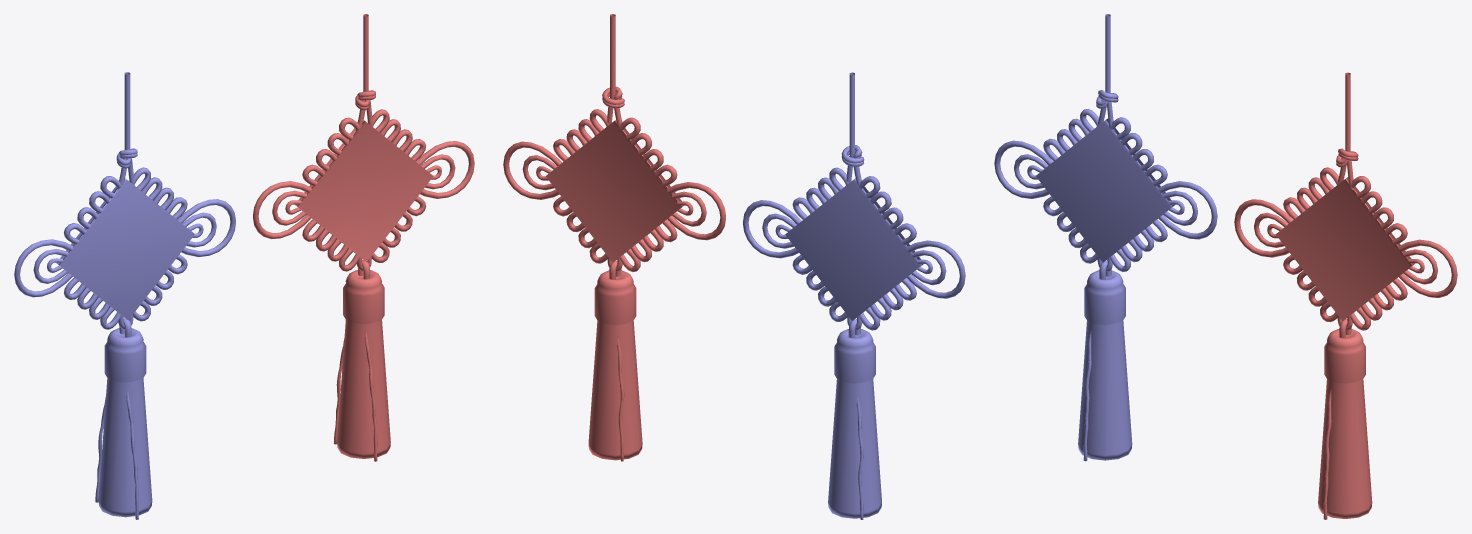
The model's file is Tassle_All_L3.fbx.
3 renders of one model, left to right at view 1: azimuth 30°, elevation 25°; view 2: azimuth 150°, elevation 25°; view 3: azimuth 330°, elevation 25°, orthographic.
Parts seen in each view (by area): view 1: TasselTail_L2, TasselTail_L1; view 2: TasselTail_L1, TasselTail_L2; view 3: TasselTail_L1, TasselTail_L2.
Part boxes in pixels (bbox=[...]): TasselTail_L2: bbox=[14, 72, 235, 519]; TasselTail_L1: bbox=[253, 14, 474, 461]; TasselTail_L1: bbox=[503, 14, 725, 461]; TasselTail_L2: bbox=[743, 72, 965, 519]; TasselTail_L1: bbox=[1234, 72, 1457, 519]; TasselTail_L2: bbox=[994, 14, 1217, 461].
Bounding box in the file's own units: 14.15 × 12.71 × 1.6.
